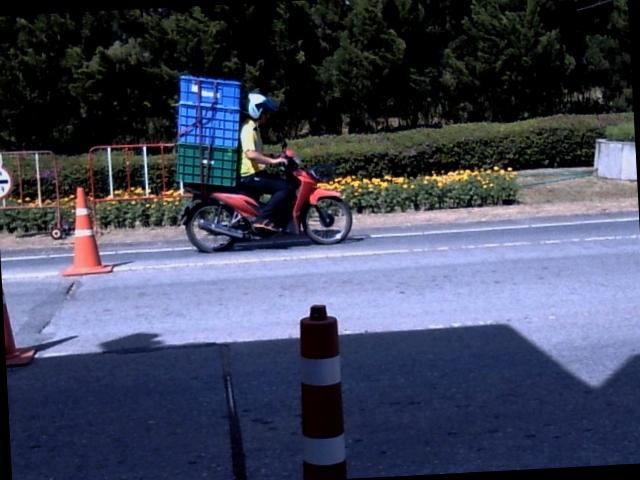helmet: (241, 88, 278, 119)
motor: (180, 149, 351, 252)
person: (239, 90, 293, 230)
